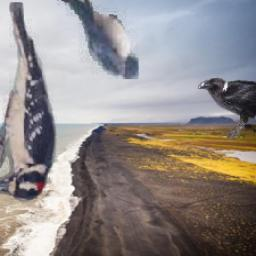Crow: (198, 77, 256, 141)
Swallow: (57, 0, 139, 79)
Woodpecker: (0, 3, 58, 204)
